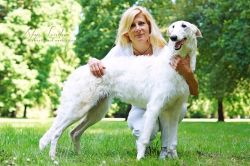borzoi: (37, 20, 215, 157)
